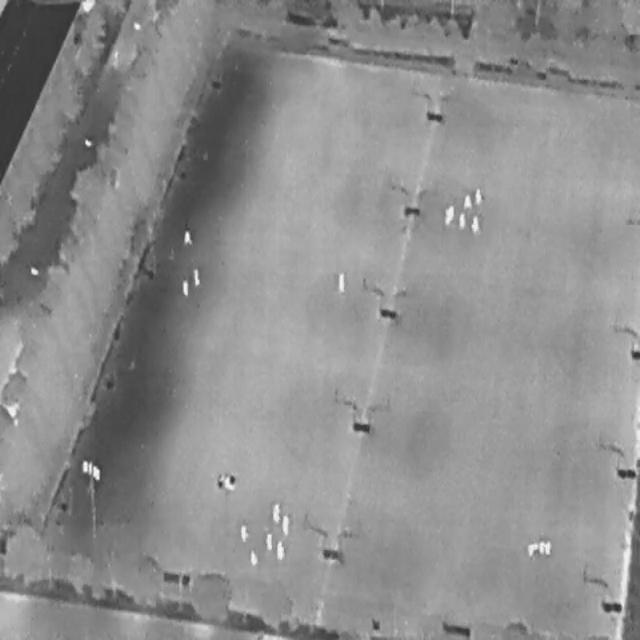Person: (275, 539, 284, 560), (470, 214, 479, 234), (271, 502, 280, 522), (239, 524, 248, 541), (264, 531, 272, 550), (280, 515, 288, 534), (249, 547, 257, 565), (337, 271, 344, 291), (463, 192, 471, 208), (473, 188, 481, 204), (192, 268, 199, 286), (183, 230, 191, 244), (181, 279, 188, 295), (458, 212, 464, 228), (448, 204, 454, 220), (444, 206, 449, 224)
